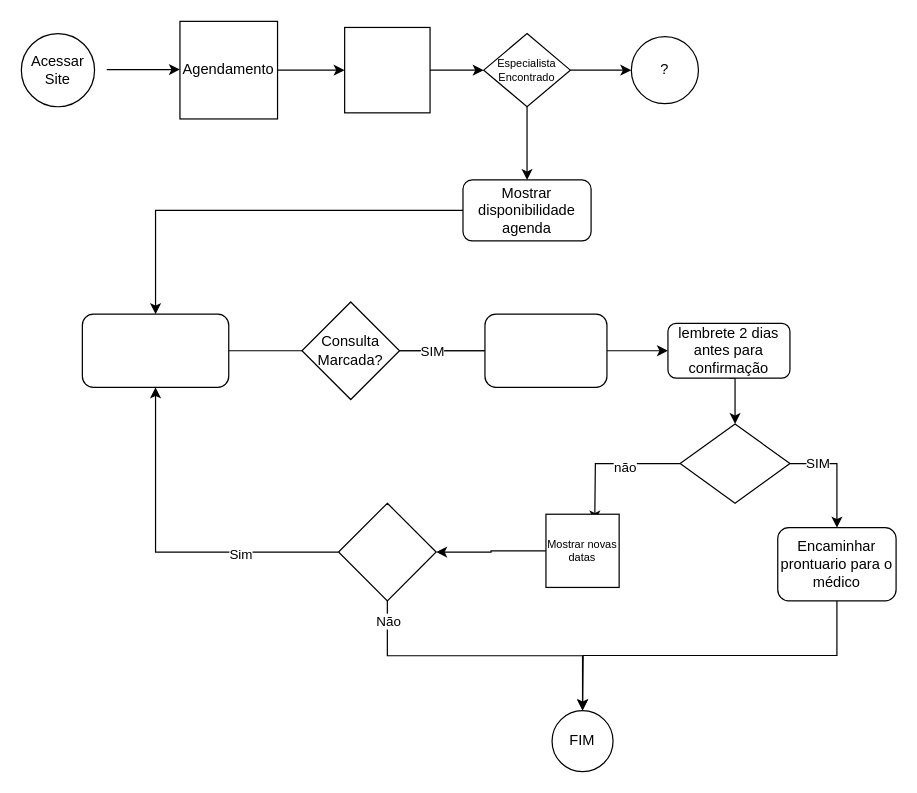
Some shapes in this 917 by 793 pixel diagram are drawn without their labels. The shapes that lost their labels are listed below. From the top down, each one's centre as x and y in pixels, then its label:
point 386,69: Procurar Especialidade
point 155,350: Selecionar Data/Horário
point 545,350: Enviar e-mail ou whatsapp
point 734,463: Paciente Confrmou agendamento?
point 386,551: Paciente quer reagendar
